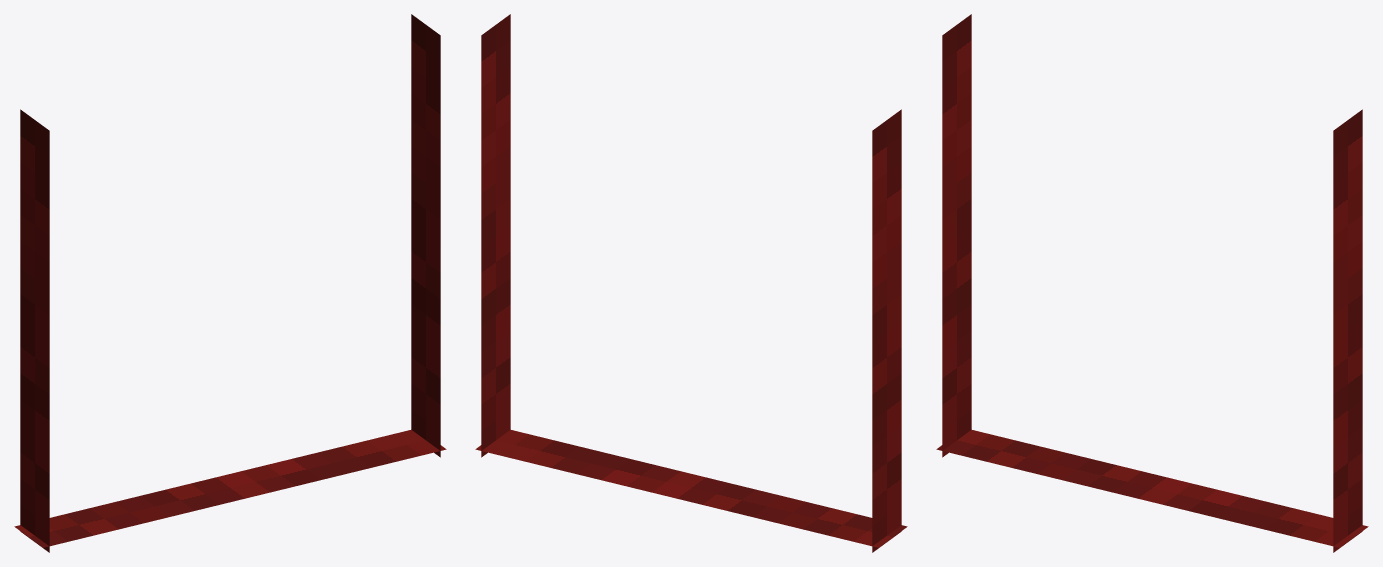
The model's file is dust_2200.gltf.
The picture shows the model from 3 angles, left to right: view 1: azimuth 30°, elevation 25°; view 2: azimuth 150°, elevation 25°; view 3: azimuth 330°, elevation 25°; orthographic projection.
Parts seen in each view (by area): view 1: dust_2200; view 2: dust_2200; view 3: dust_2200.
Boxes of the visible parts, box(x1,y1,x2,y2) form: dust_2200: box(14, 14, 446, 552); dust_2200: box(475, 14, 907, 552); dust_2200: box(936, 14, 1368, 552).
Size of the model in its own units: 1 by 1 by 0.125.
1 material, 1 textured.
